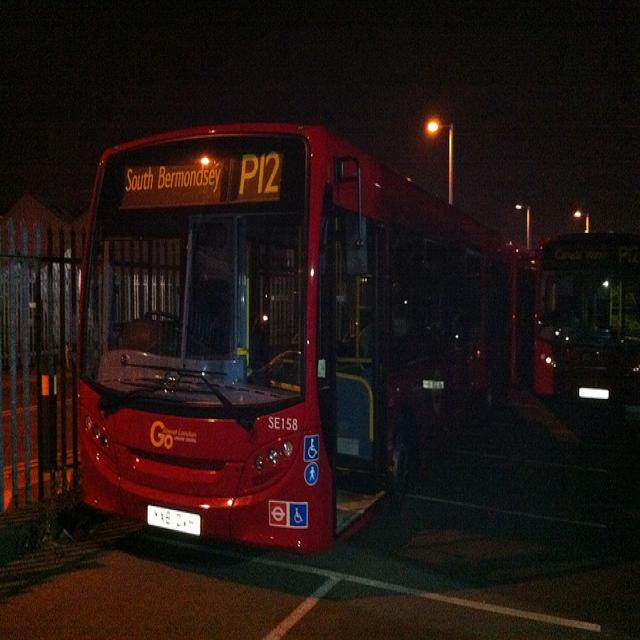Bus: (90, 112, 517, 568), (531, 224, 640, 446)
